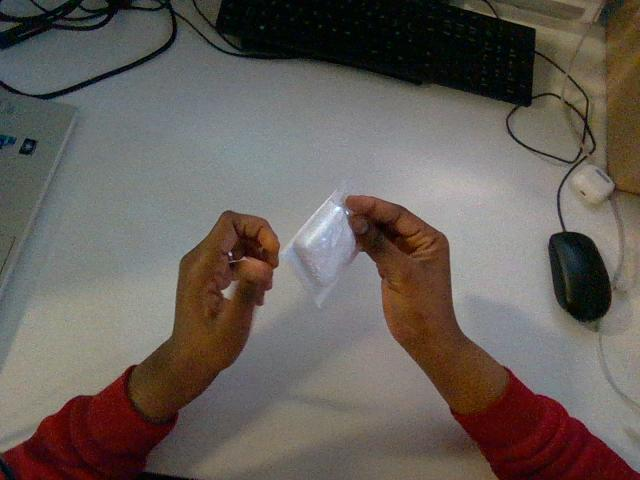gauze: (282, 185, 357, 306)
